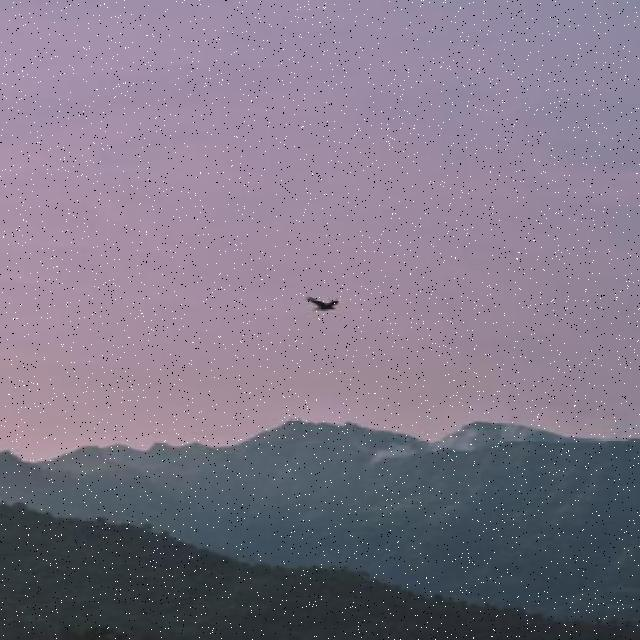bird: (306, 296, 339, 310)
